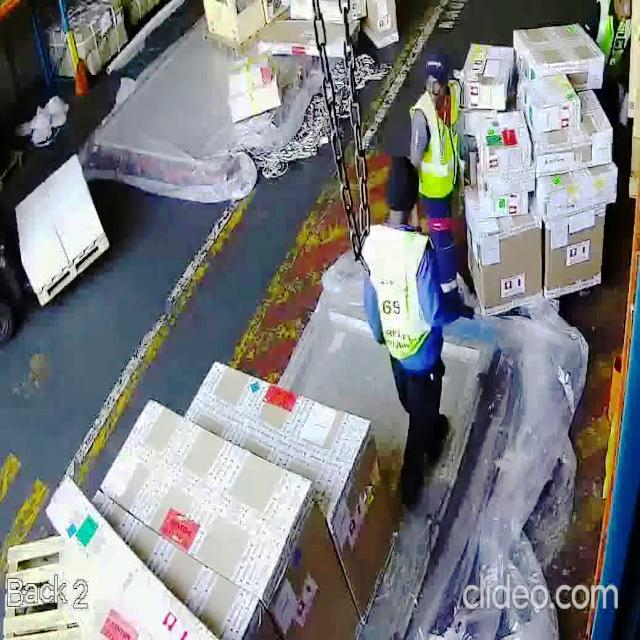Box: (466, 212, 545, 311), (540, 212, 607, 296), (522, 25, 606, 72), (477, 110, 537, 172), (545, 172, 624, 218), (228, 58, 284, 120), (542, 131, 620, 175), (519, 82, 578, 131), (466, 44, 508, 106)
